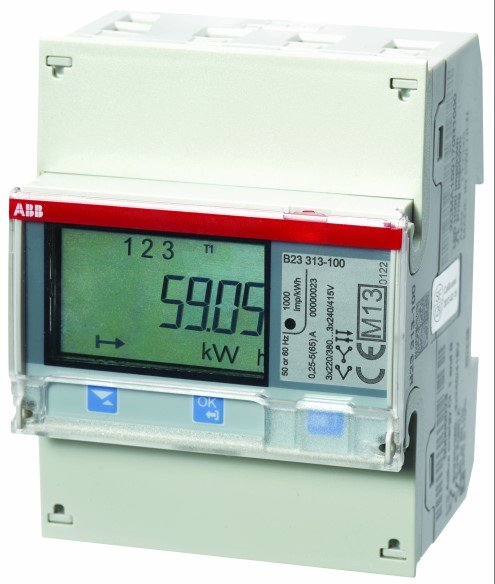counter: (7, 44, 426, 563)
counter_screen: (51, 216, 273, 380)
